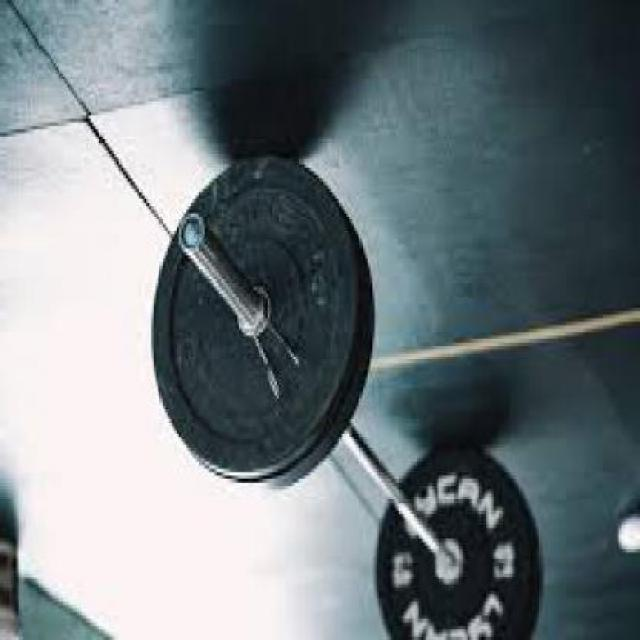Barbell: (177, 212, 206, 256)
